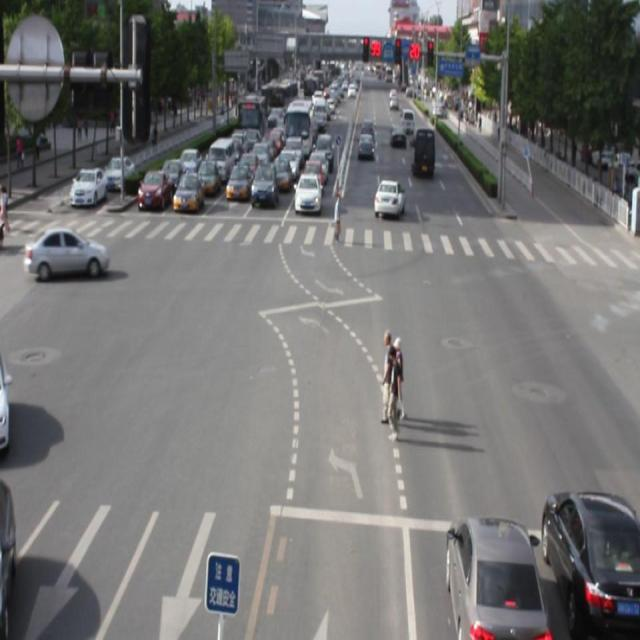car: (535, 493, 640, 640), (442, 516, 541, 640)
